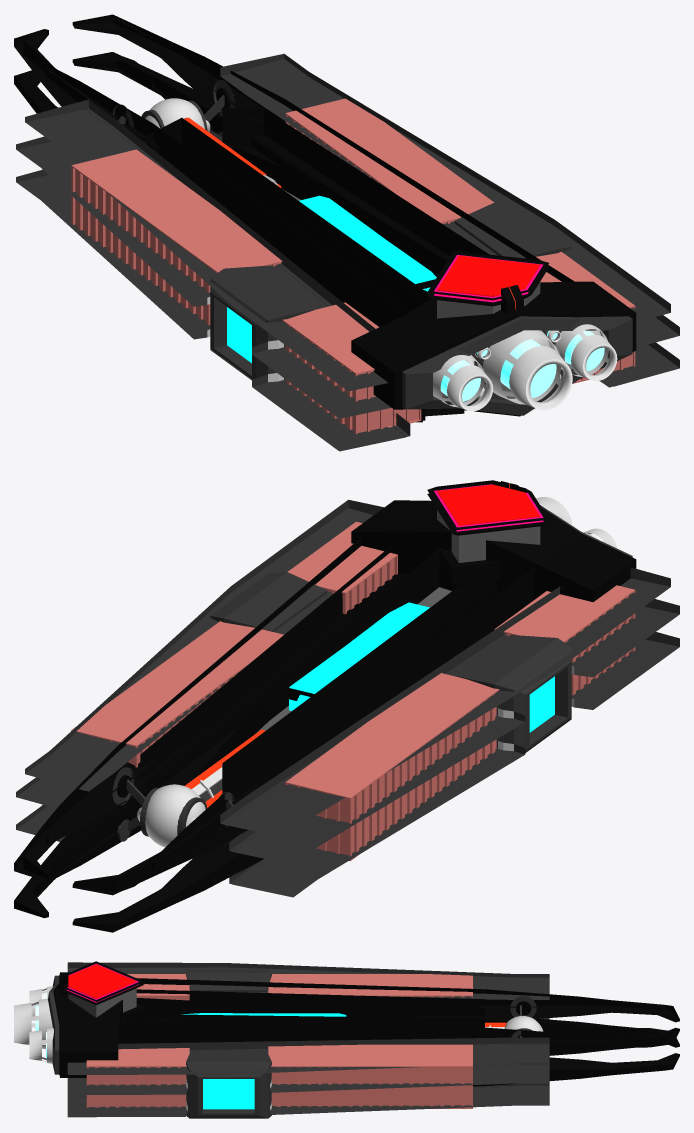
File: SSAmelka_SS_krwawa_reka.fbx
The picture shows the model from 3 angles, top to bottom: view 1: azimuth 30°, elevation 25°; view 2: azimuth 150°, elevation 25°; view 3: azimuth 270°, elevation 25°; orthographic projection. The views are drawn at different scales.
Visible parts, largest first — view 1: Sphere; view 2: Sphere; view 3: Sphere.
Boxes of the visible parts, box(x1,y1,x2,y2) form: Sphere: box(14, 14, 679, 451); Sphere: box(14, 480, 679, 932); Sphere: box(14, 961, 679, 1118).
Bounding box in the file's own units: 3828 × 1476 × 9536.
